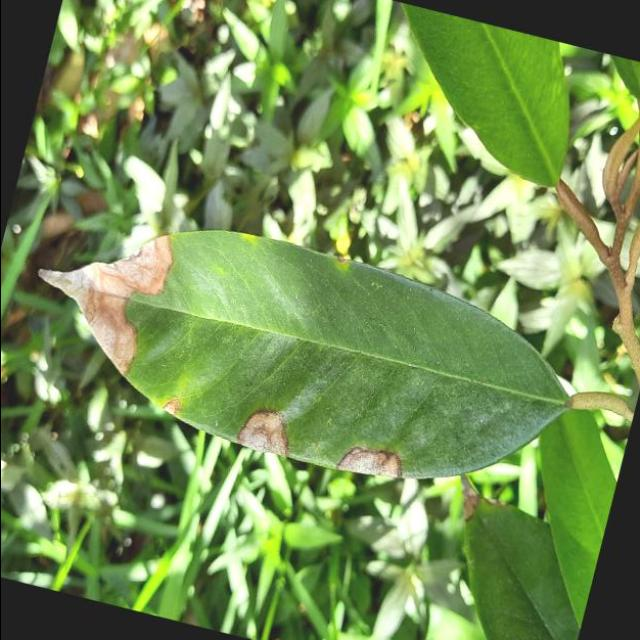Leaf Blight: (0, 172, 600, 539)
